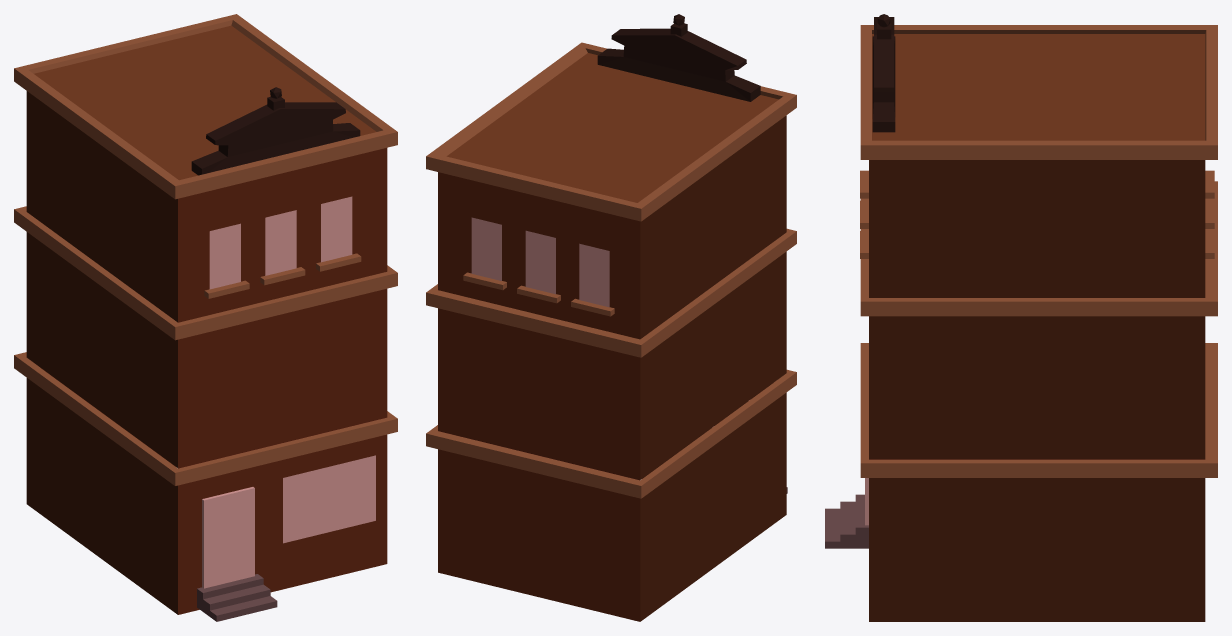
File: Building 2.fbx
3 renders of one model, left to right at view 1: azimuth 30°, elevation 25°; view 2: azimuth 150°, elevation 25°; view 3: azimuth 270°, elevation 25°, orthographic. The views are drawn at different scales.
Visible parts, largest first — view 1: Cube.002; view 2: Cube.002; view 3: Cube.002.
Boxes of the visible parts, x1=… form: Cube.002: x1=14, y1=14, x2=397, y2=621; Cube.002: x1=426, y1=14, x2=796, y2=621; Cube.002: x1=825, y1=14, x2=1217, y2=621.
Size of the model in its own units: 1222 by 2609 by 1684.
